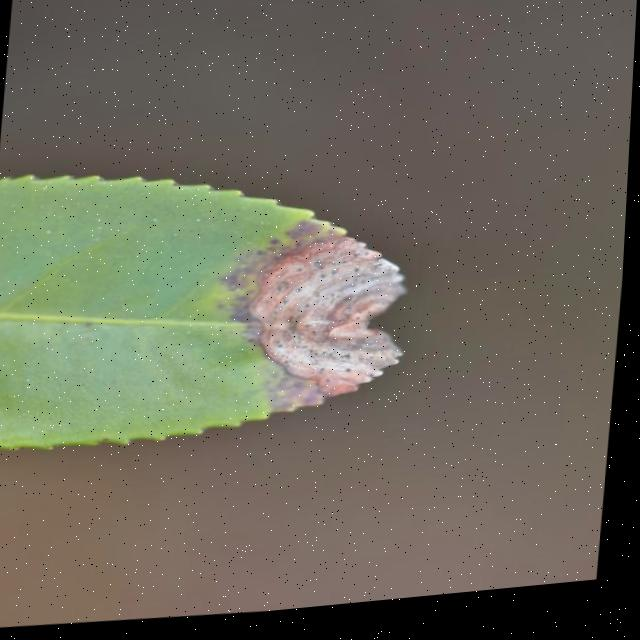Tea cloud leaf blight: (212, 210, 437, 428)
